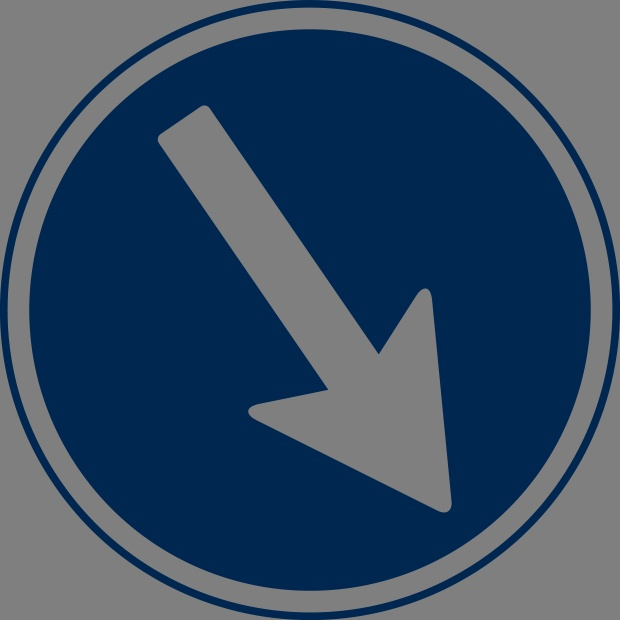Direction_sign: (2, 2, 620, 616)
